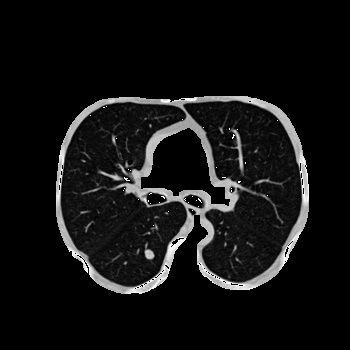PN: (144, 249, 154, 259)
